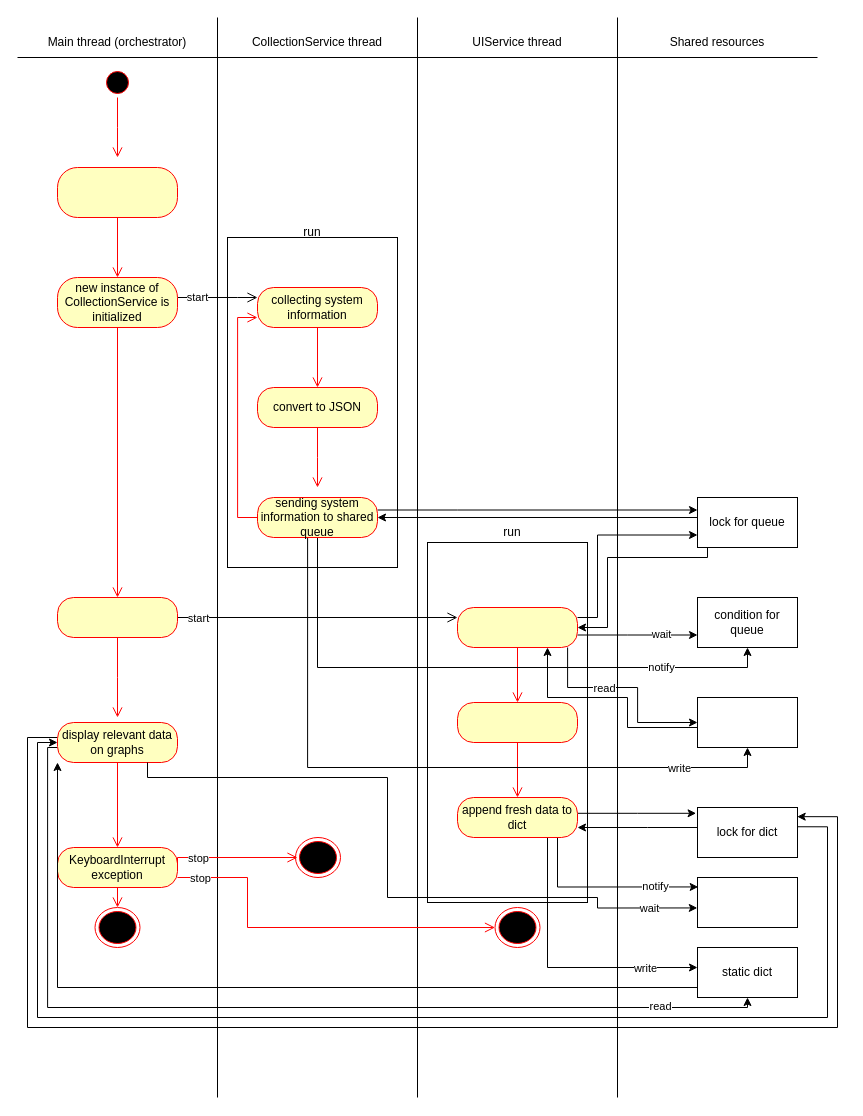
Image size: 863x1116. Some labels were removed from this diagram. Each missing label, with the centre of its shape:
"condition for dict" goes at point (747, 902).
"convert JSON to displayable text" goes at point (517, 722).
"new instance of UIService is initialized" goes at point (117, 617).
"read system information from shared queue" goes at point (517, 627).
"static queue" goes at point (747, 722).
"static shared queue, lock and condition initialization" goes at point (117, 192).
